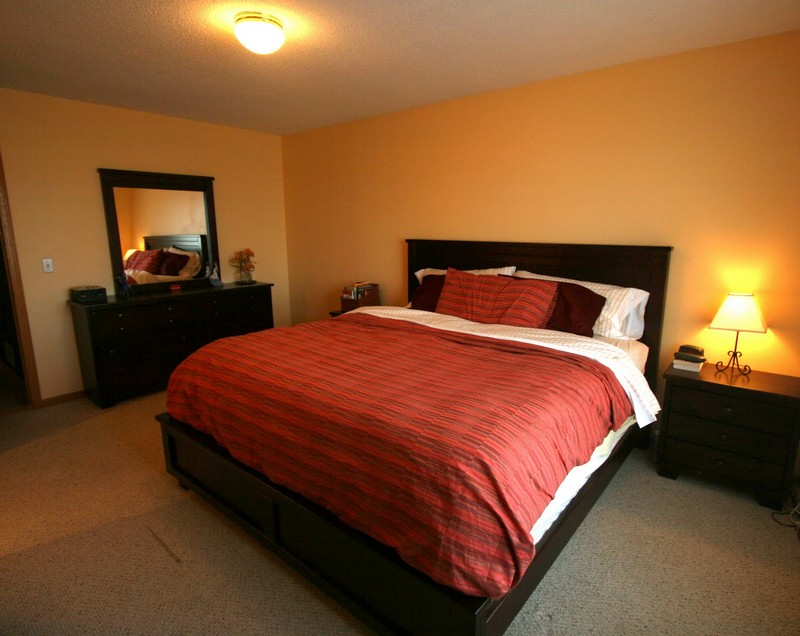bed: (156, 237, 674, 633)
lamp: (708, 293, 766, 377)
stool: (666, 350, 795, 517)
